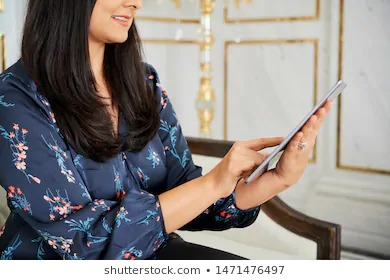C_blouse: (1, 58, 264, 257)
